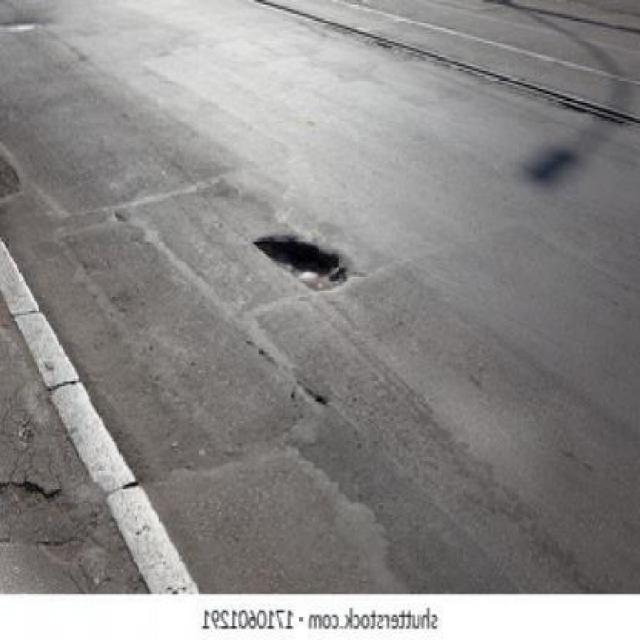pothole: (252, 234, 355, 293)
